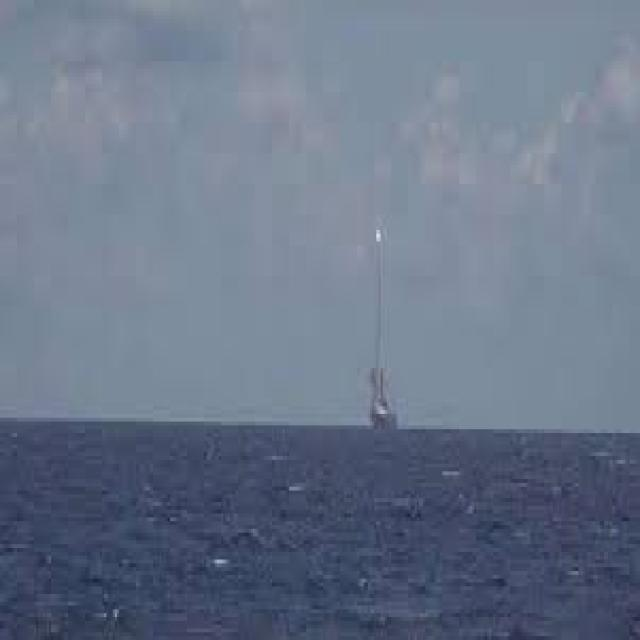fishing boat: (354, 244, 406, 439)
